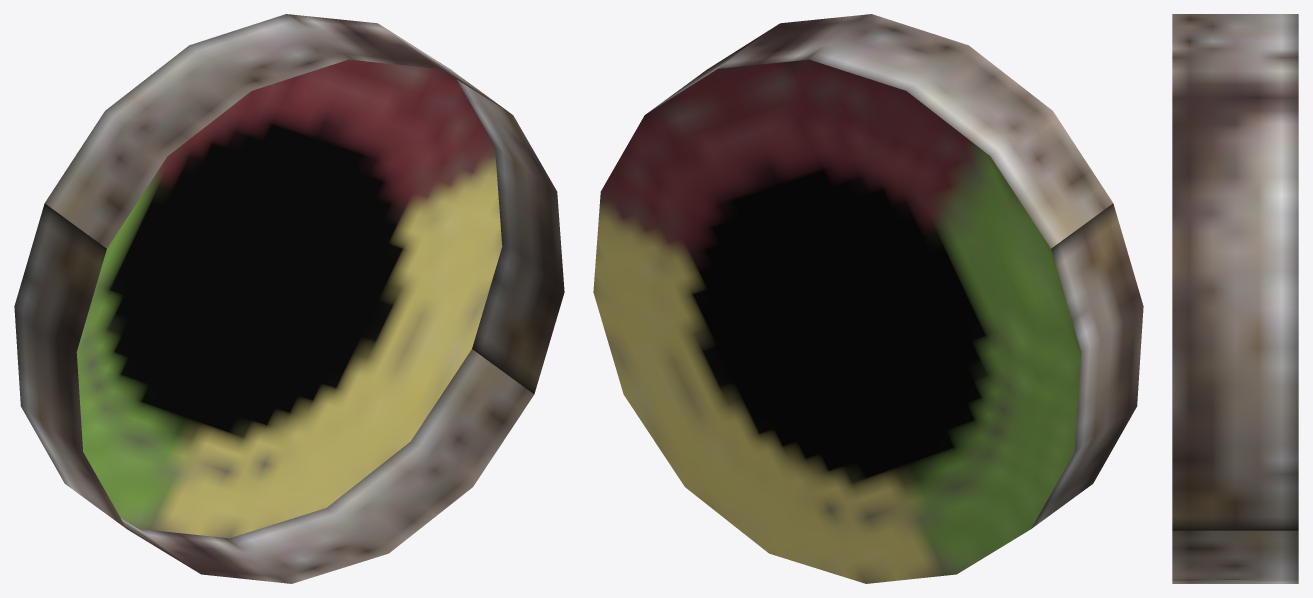
Rendered from air.obj.
3 renders of one model, left to right at view 1: azimuth 30°, elevation 25°; view 2: azimuth 150°, elevation 25°; view 3: azimuth 270°, elevation 25°, orthographic.
Visible parts, largest first — view 1: wpn34_gatling; view 2: wpn34_gatling; view 3: wpn34_gatling.
Boxes of the visible parts, bbox=[...] form: wpn34_gatling: bbox=[14, 14, 564, 583]; wpn34_gatling: bbox=[593, 14, 1143, 583]; wpn34_gatling: bbox=[1172, 14, 1298, 583].
Size of the model in its own units: 0.0533 by 0.0533 by 0.0118.
Materials: 1 (1 with a texture image).
